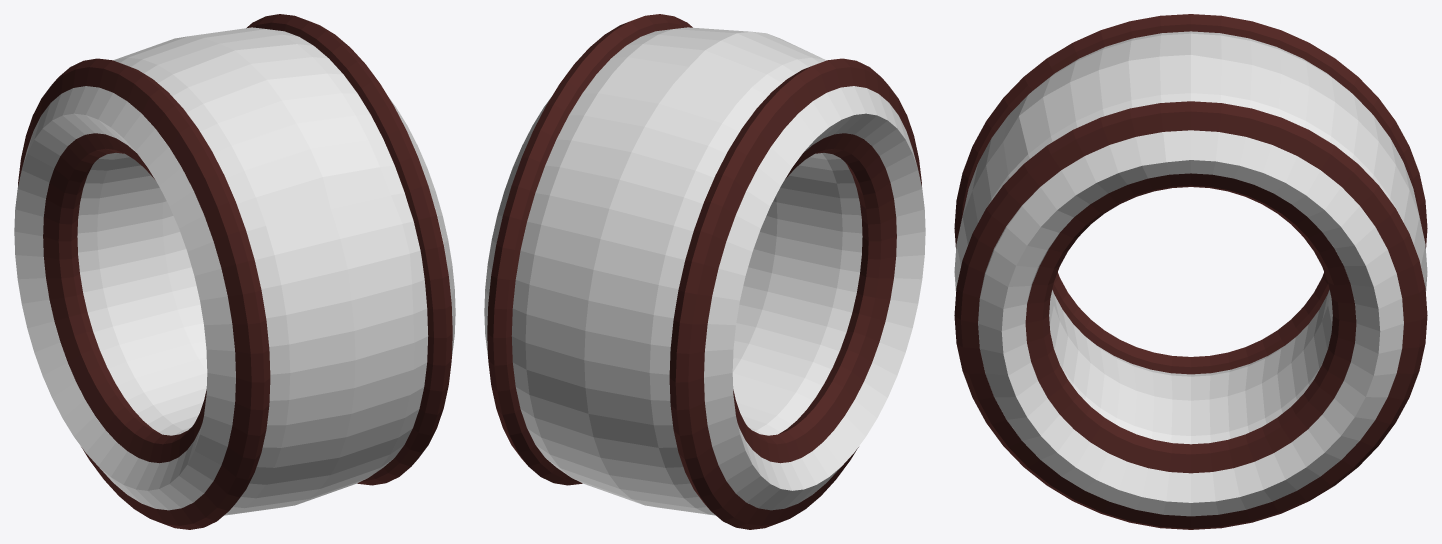
The model's file is SpikeBase.fbx.
3 renders of one model, left to right at view 1: azimuth 30°, elevation 25°; view 2: azimuth 150°, elevation 25°; view 3: azimuth 270°, elevation 25°, orthographic.
Visible parts, largest first — view 1: Torus, Torus.001, Torus.002; view 2: Torus, Torus.001, Torus.002; view 3: Torus, Torus.002, Torus.001.
Part boxes in pixels (bbox=[...]): Torus: bbox=[14, 27, 455, 515]; Torus.001: bbox=[18, 58, 270, 529]; Torus.002: bbox=[246, 14, 452, 485]; Torus: bbox=[484, 27, 925, 515]; Torus.001: bbox=[669, 58, 921, 529]; Torus.002: bbox=[487, 14, 692, 485]; Torus: bbox=[954, 31, 1427, 516]; Torus.002: bbox=[954, 101, 1427, 529]; Torus.001: bbox=[954, 14, 1427, 374].
Size of the model in its own units: 150 by 252 by 250.
